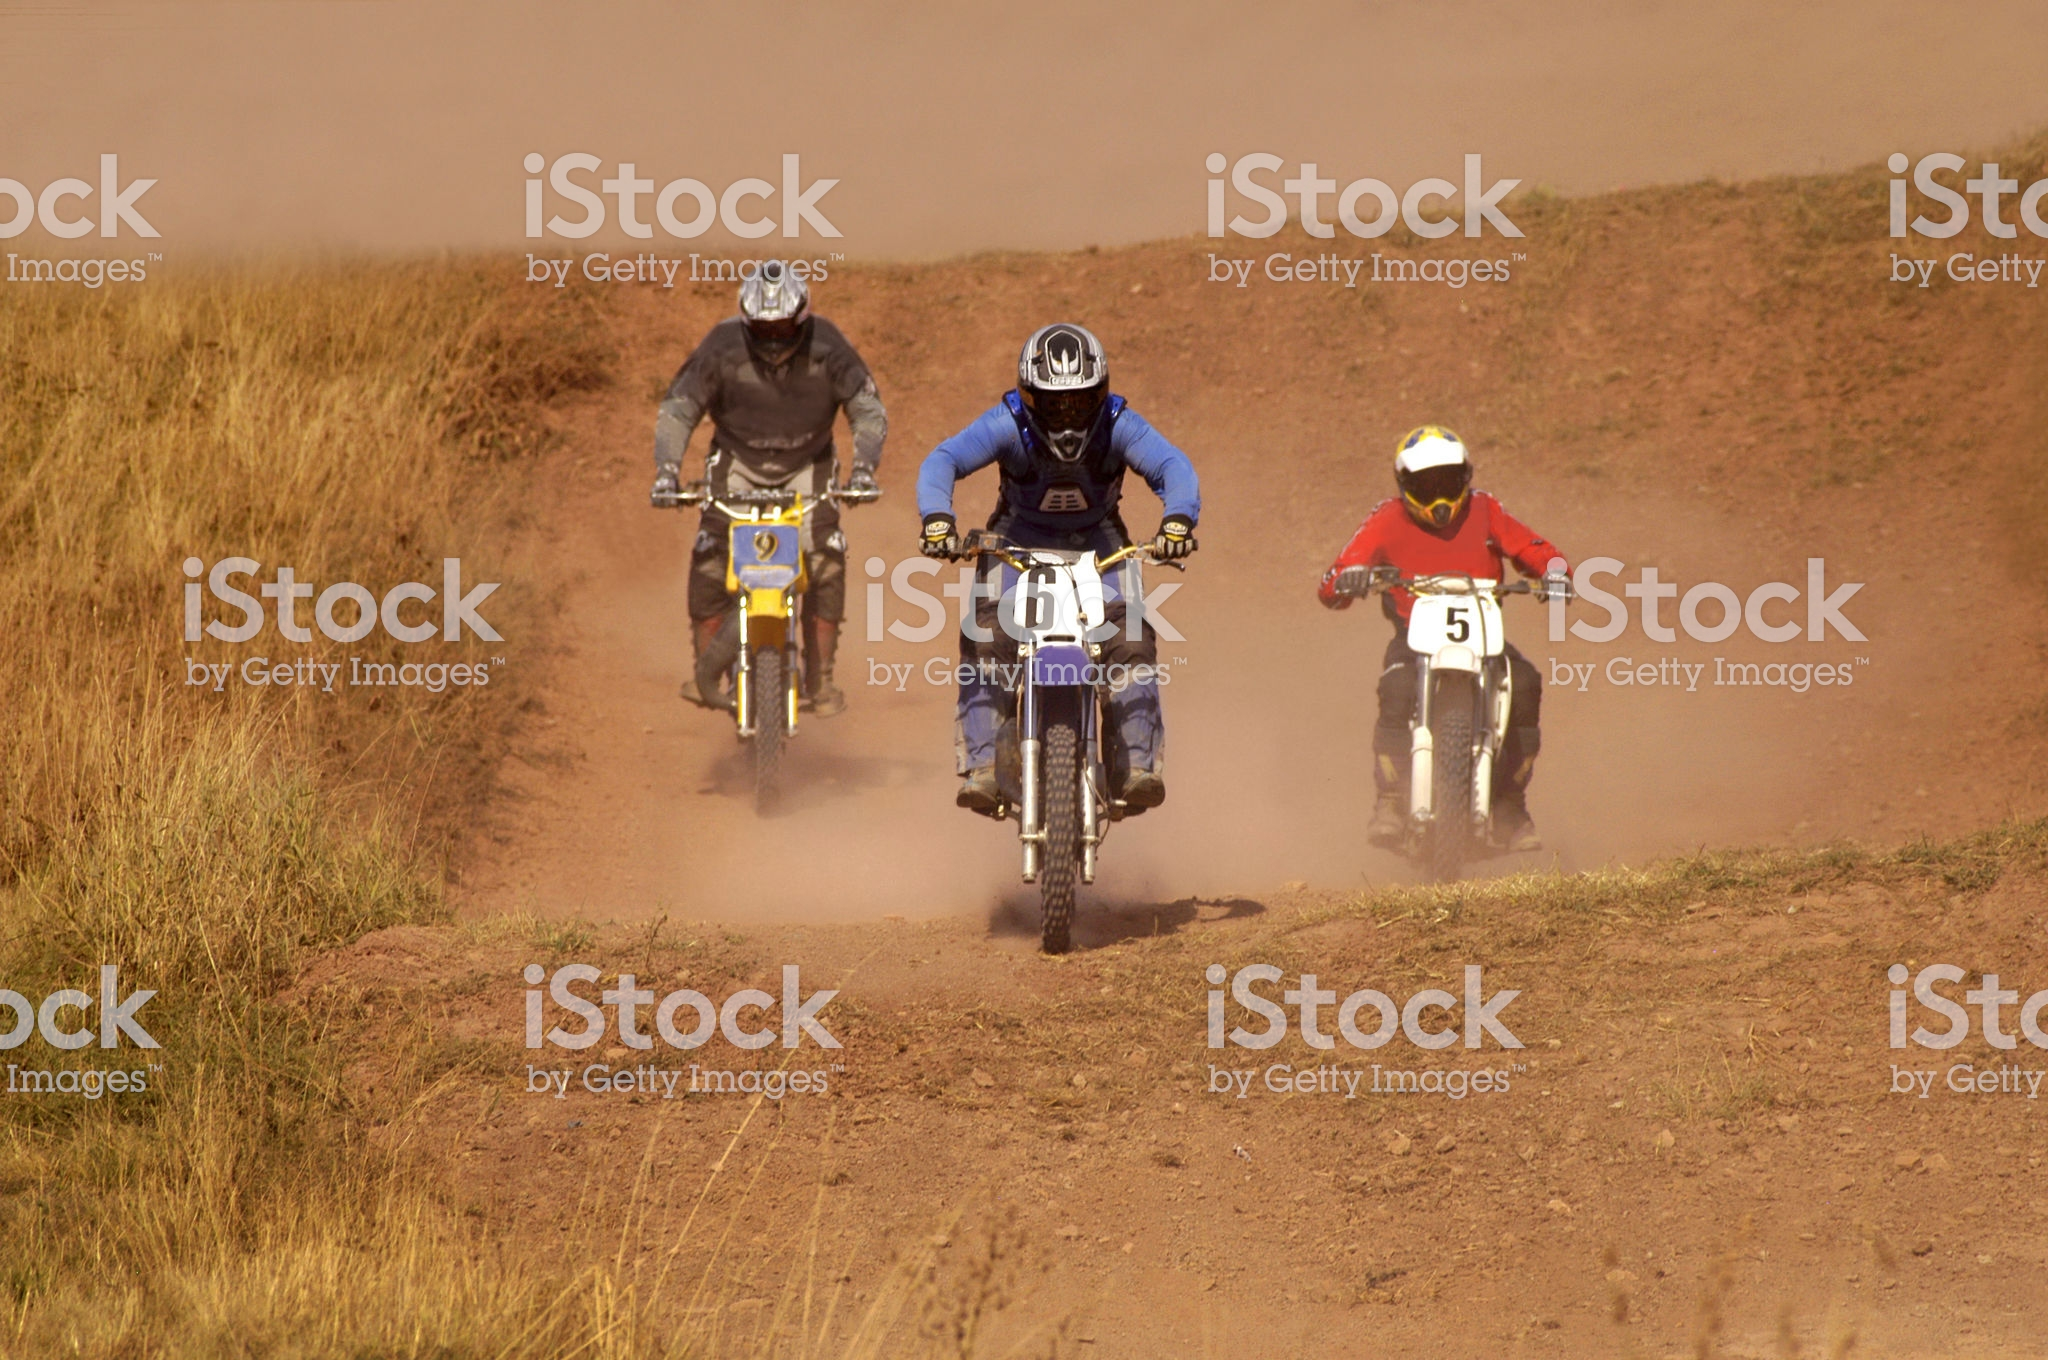helmet: (1000, 329, 1126, 452), (1379, 428, 1481, 522), (733, 261, 815, 351)
